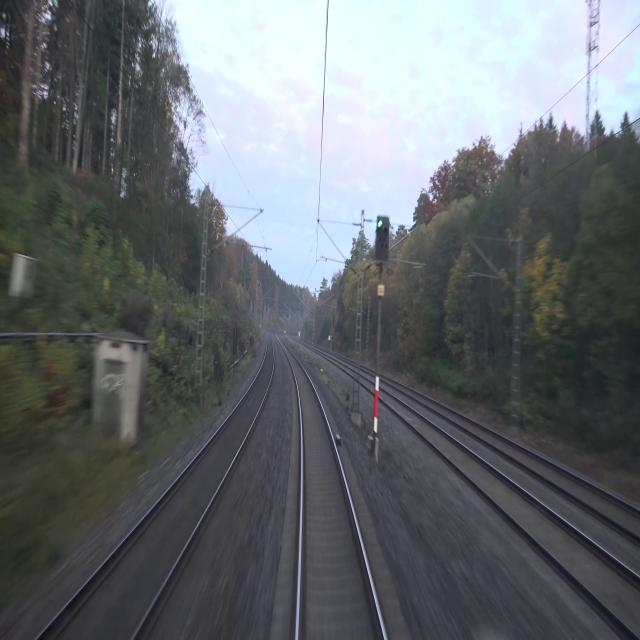rail-track: (40, 337, 272, 639), (379, 390, 640, 632), (414, 394, 640, 532), (285, 348, 383, 639)
